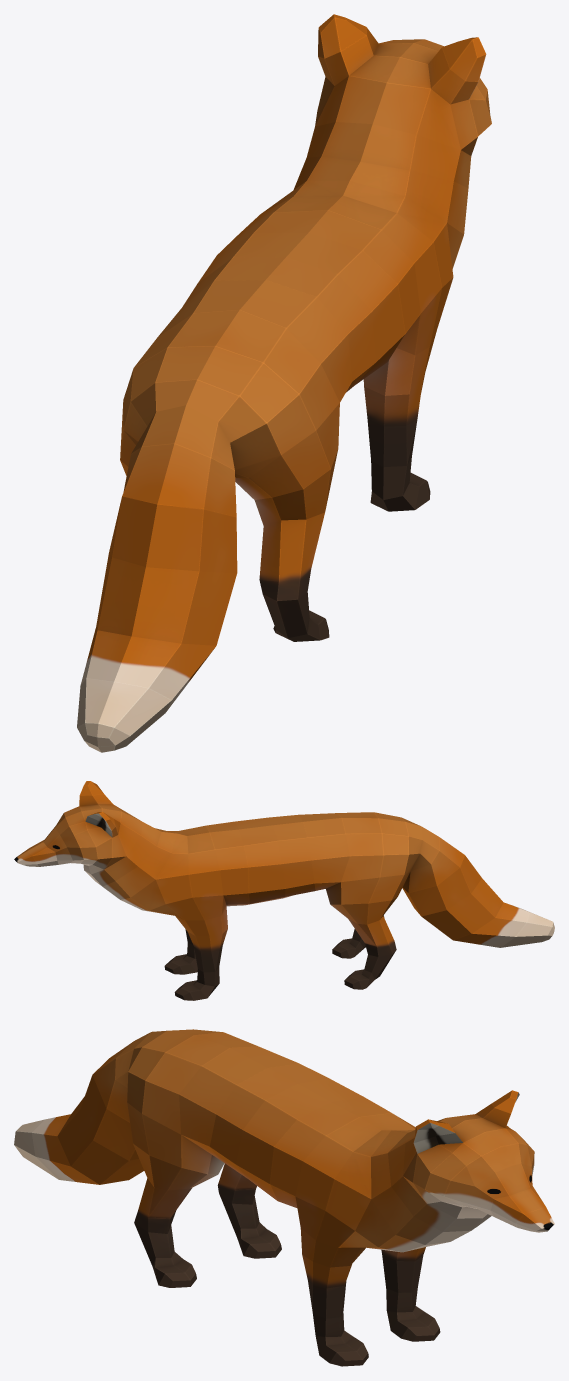
The model's file is fox_mesh.001_lev1_lev2.glb.
The picture shows the model from 3 angles, top to bottom: view 1: azimuth 30°, elevation 25°; view 2: azimuth 150°, elevation 25°; view 3: azimuth 270°, elevation 25°; orthographic projection. The views are drawn at different scales.
Visible parts, largest first — view 1: fox_mesh.001_lev1_lev2; view 2: fox_mesh.001_lev1_lev2; view 3: fox_mesh.001_lev1_lev2.
Part boxes in pixels (x1,y1,x2,y2): fox_mesh.001_lev1_lev2: (77, 14, 491, 752); fox_mesh.001_lev1_lev2: (14, 781, 554, 1000); fox_mesh.001_lev1_lev2: (14, 1029, 554, 1366).
Size of the model in its own units: 4.28 by 2.16 by 3.73.
1 material, 1 textured.
